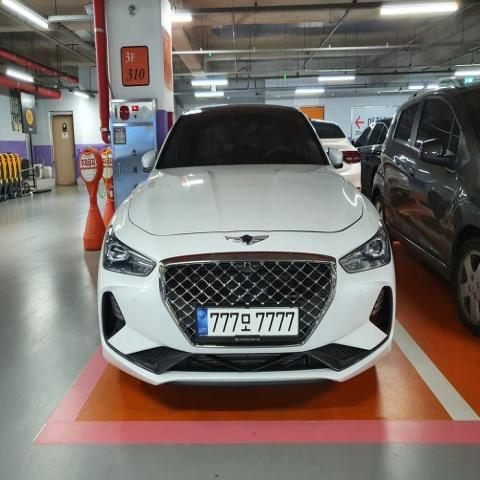LP: (191, 302, 301, 344)
